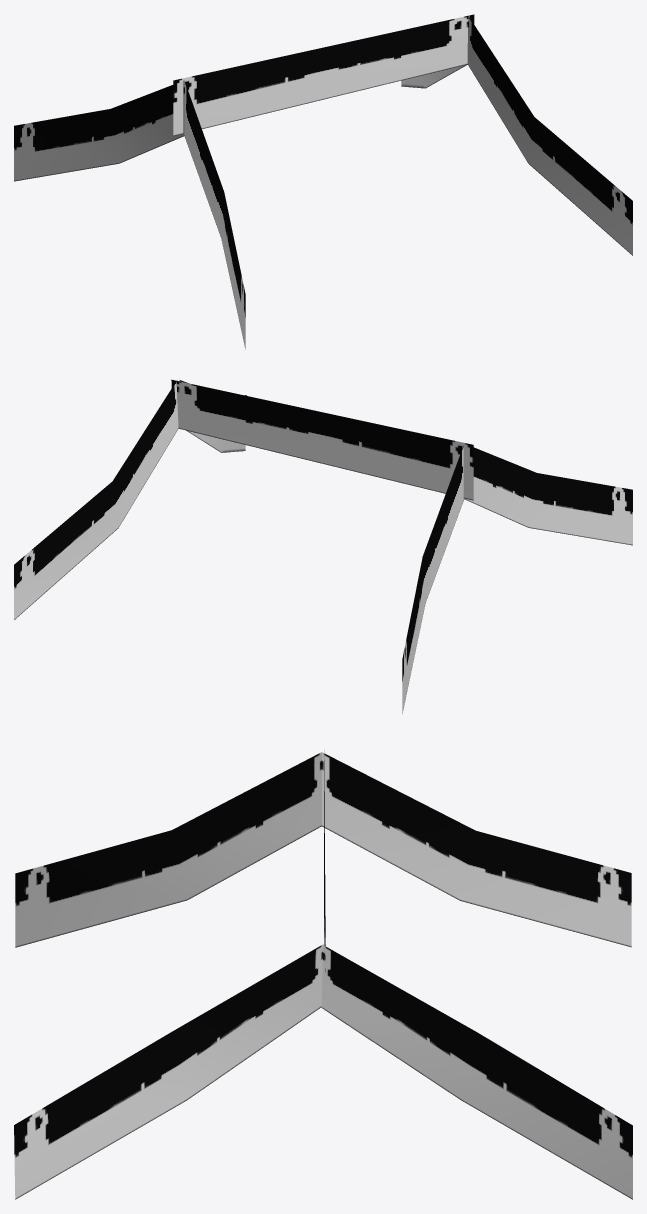
The picture shows the model from 3 angles, top to bottom: view 1: azimuth 30°, elevation 25°; view 2: azimuth 150°, elevation 25°; view 3: azimuth 270°, elevation 25°; orthographic projection. The views are drawn at different scales.
Parts seen in each view (by area): view 1: wy08; view 2: wy08; view 3: wy08.
Boxes of the visible parts, x1,y1,x2,y2 form: wy08: [14, 14, 632, 349]; wy08: [14, 379, 632, 713]; wy08: [14, 749, 632, 1199].
Size of the model in its own units: 238 by 103 by 247.
